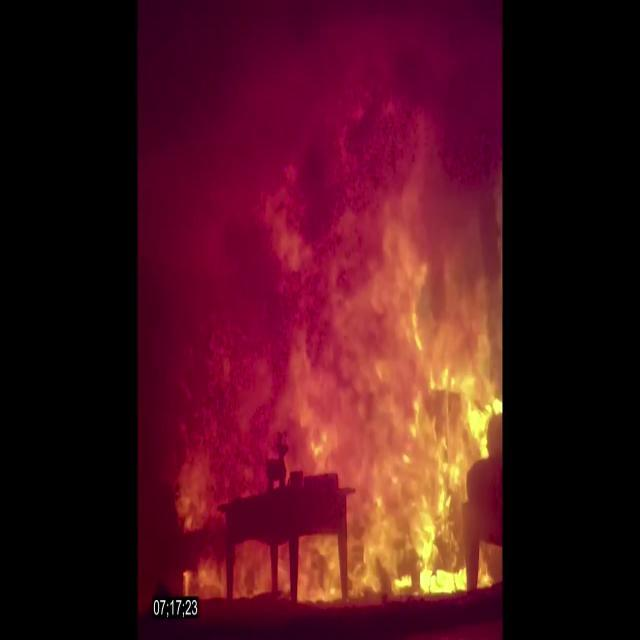Fire: (214, 95, 501, 608)
